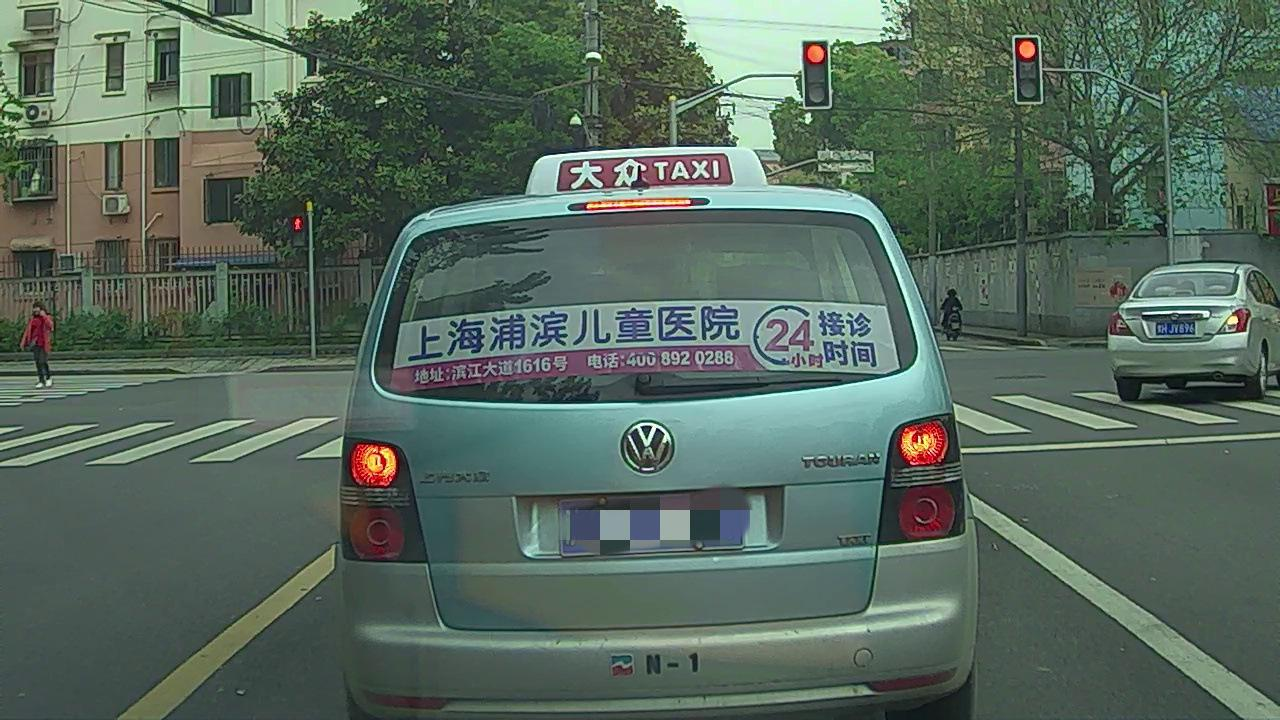traffic_light: (1017, 36, 1042, 102), (806, 43, 830, 110)
